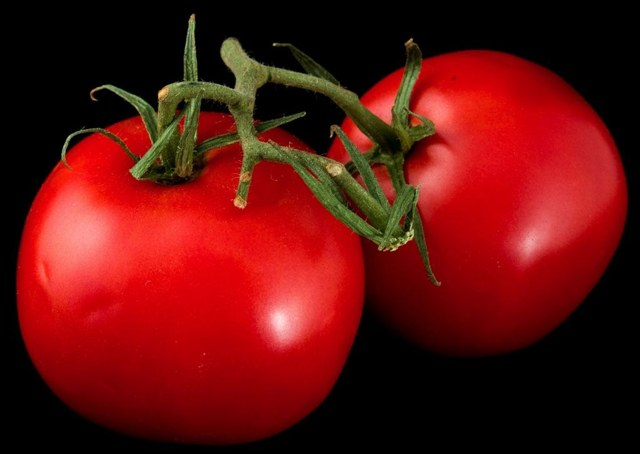tomato: (23, 14, 368, 444), (328, 48, 631, 363)
